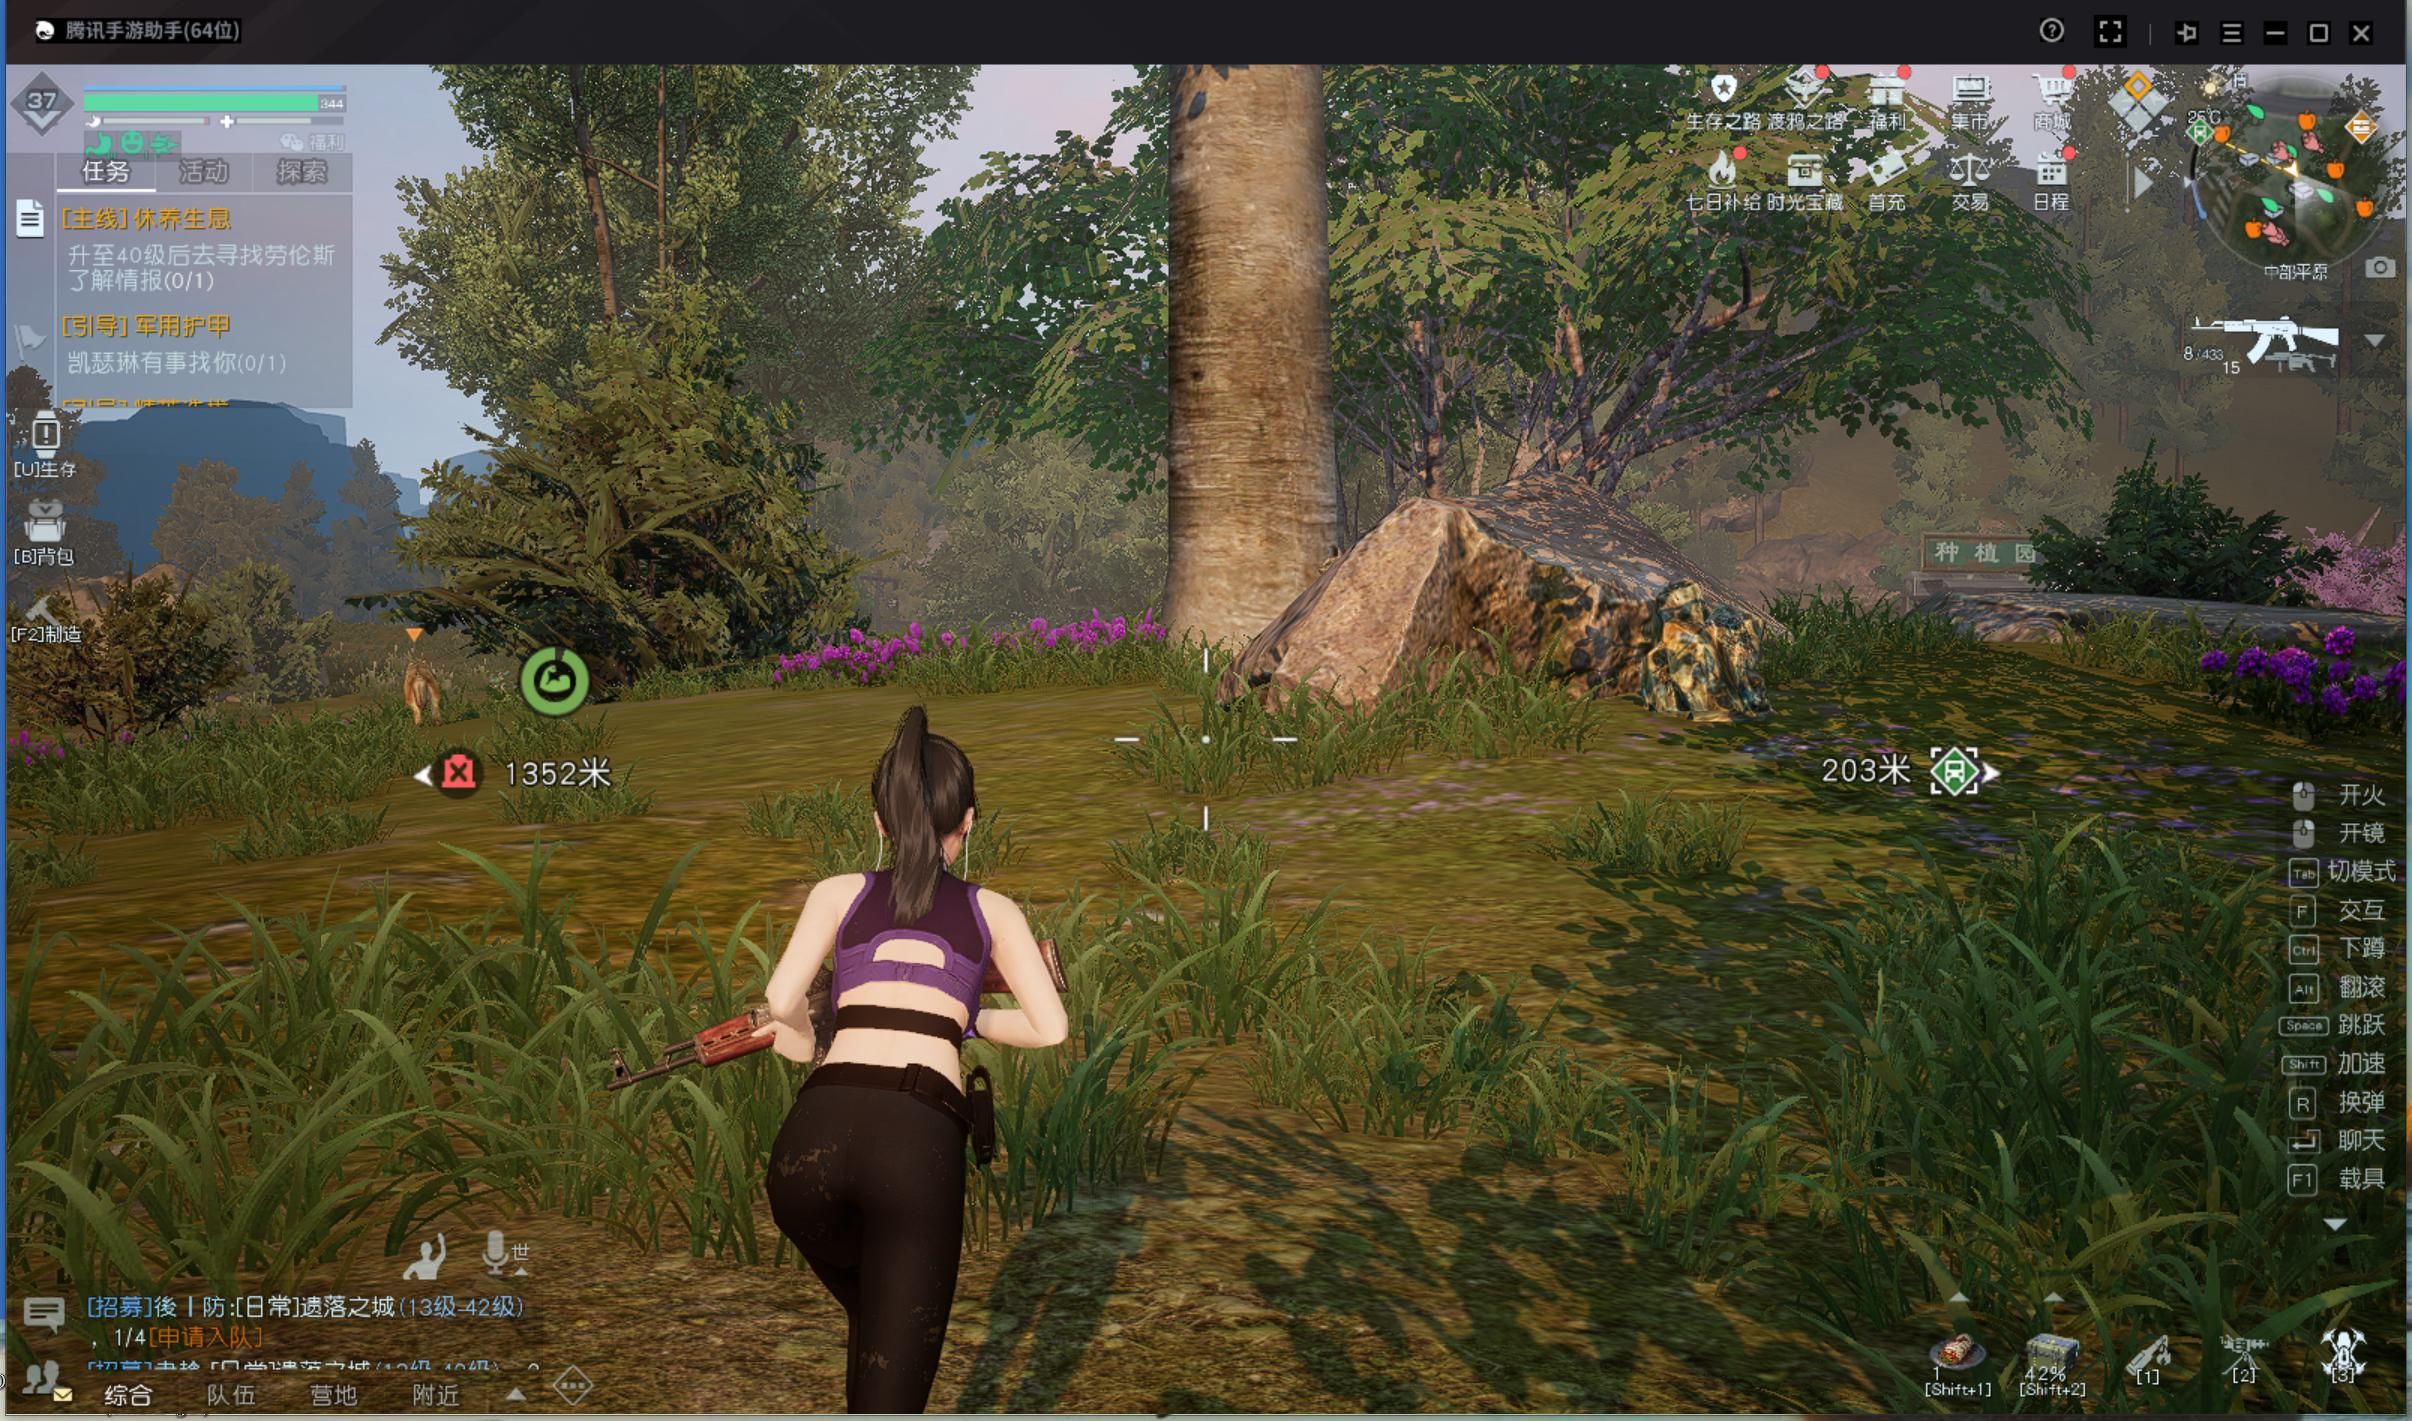stone: (1622, 572, 1783, 741)
tree: (1148, 162, 1377, 709)
